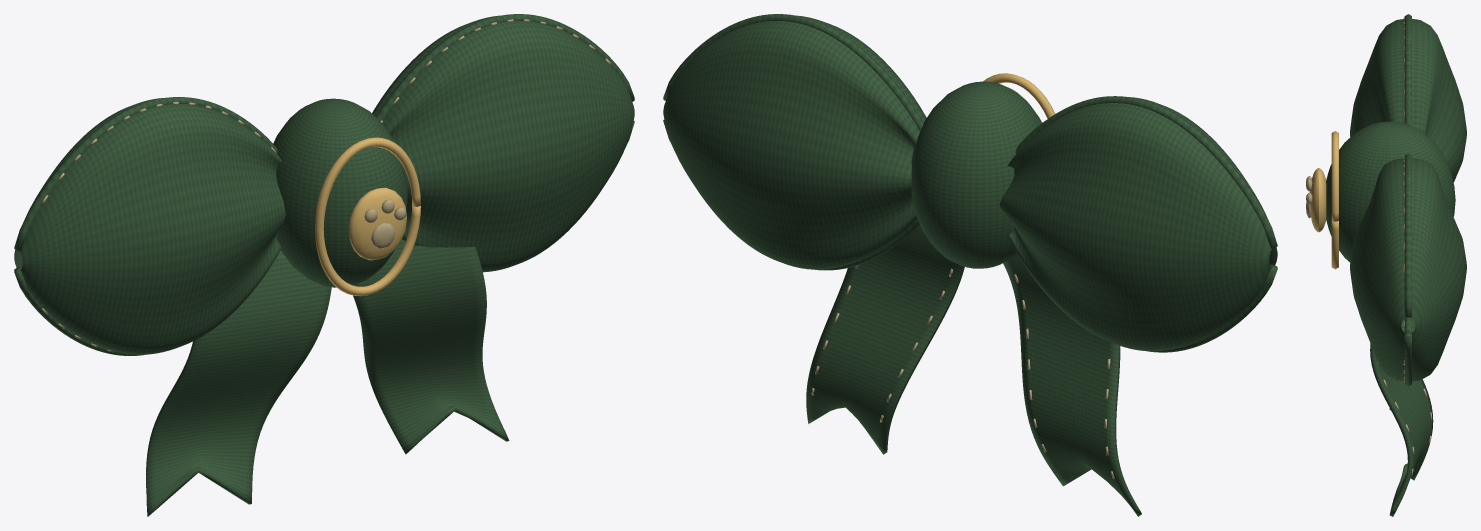
File: moss-bow.glb
The picture shows the model from 3 angles, left to right: view 1: azimuth 30°, elevation 25°; view 2: azimuth 150°, elevation 25°; view 3: azimuth 270°, elevation 25°; orthographic projection. The views are drawn at different scales.
Parts seen in each view (by area): view 1: moss-bow / Woven moss-bow, moss-bow / Brushed warm brass, moss-bow / Ivory cotton stitching; view 2: moss-bow / Woven moss-bow, moss-bow / Brushed warm brass, moss-bow / Ivory cotton stitching; view 3: moss-bow / Woven moss-bow, moss-bow / Brushed warm brass, moss-bow / Ivory cotton stitching.
Part boxes in pixels (x1,y1,x2,y2): moss-bow / Woven moss-bow: [14, 14, 634, 516]; moss-bow / Brushed warm brass: [315, 137, 420, 296]; moss-bow / Ivory cotton stitching: [41, 19, 611, 354]; moss-bow / Woven moss-bow: [663, 14, 1277, 516]; moss-bow / Brushed warm brass: [983, 73, 1055, 122]; moss-bow / Ivory cotton stitching: [811, 122, 1114, 478]; moss-bow / Woven moss-bow: [1326, 14, 1466, 516]; moss-bow / Brushed warm brass: [1309, 131, 1338, 269]; moss-bow / Ivory cotton stitching: [1306, 17, 1432, 475].
Size of the model in its own units: 0.2554 by 0.1648 by 0.0682.
Materials: 3 (2 with a texture image).
